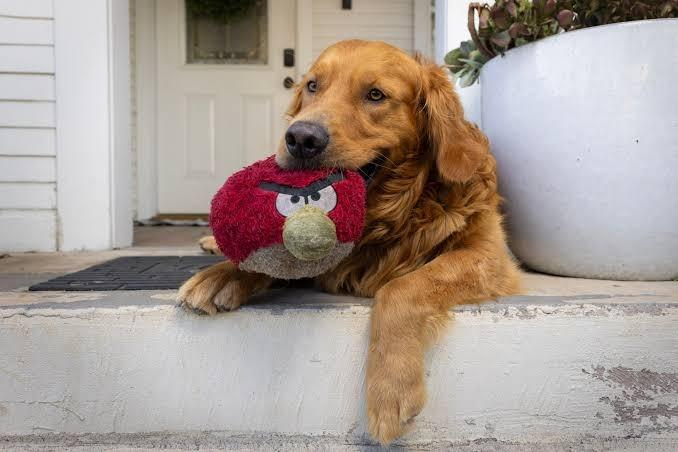adult_dog: (178, 37, 523, 445)
